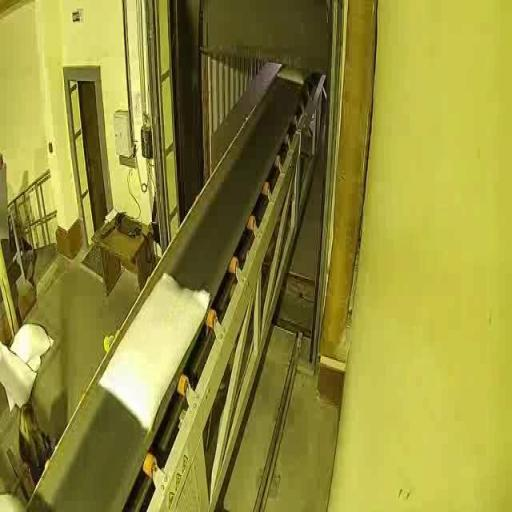c-belt-sack-count: (100, 273, 210, 430), (278, 68, 306, 85)
